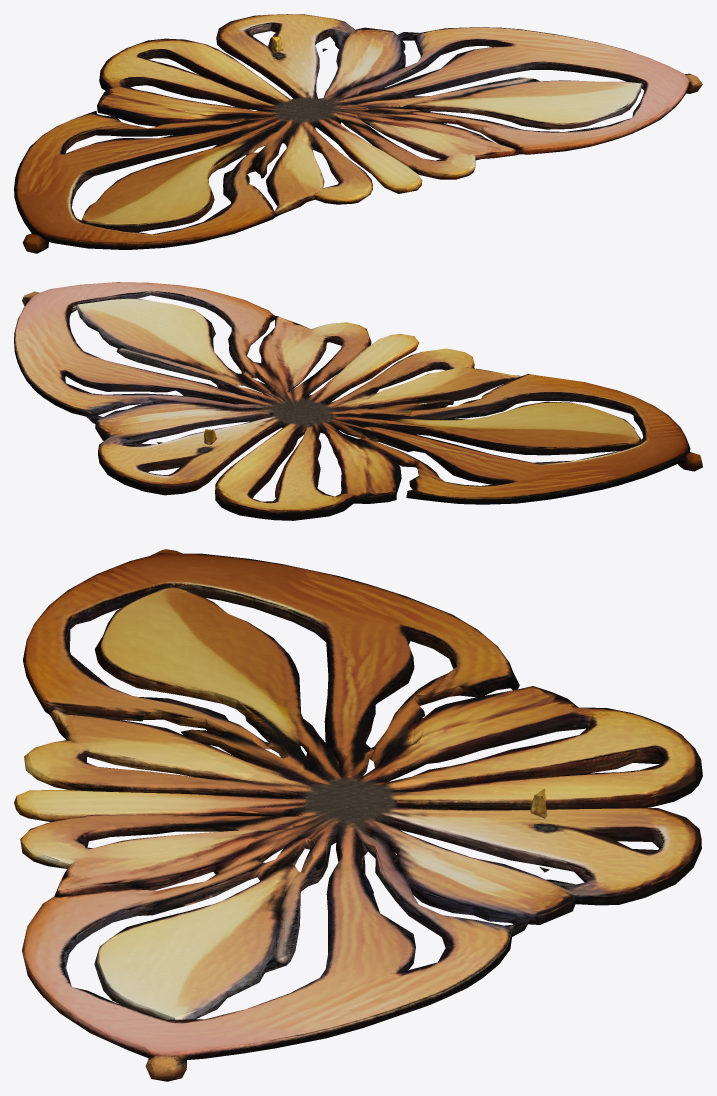
Rendered from wooden-hairpin-art-deco.jpeg.glb.
3 renders of one model, top to bottom at view 1: azimuth 30°, elevation 25°; view 2: azimuth 150°, elevation 25°; view 3: azimuth 270°, elevation 25°, orthographic. The views are drawn at different scales.
Parts seen in each view (by area): view 1: world; view 2: world; view 3: world.
Boxes of the visible parts, x1=… form: world: x1=14, y1=14, x2=702, y2=253; world: x1=14, y1=282, x2=702, y2=520; world: x1=14, y1=549, x2=702, y2=1081.
Size of the model in its own units: 1 by 0.0583 by 0.5605.
Materials: 1 (1 with a texture image).
